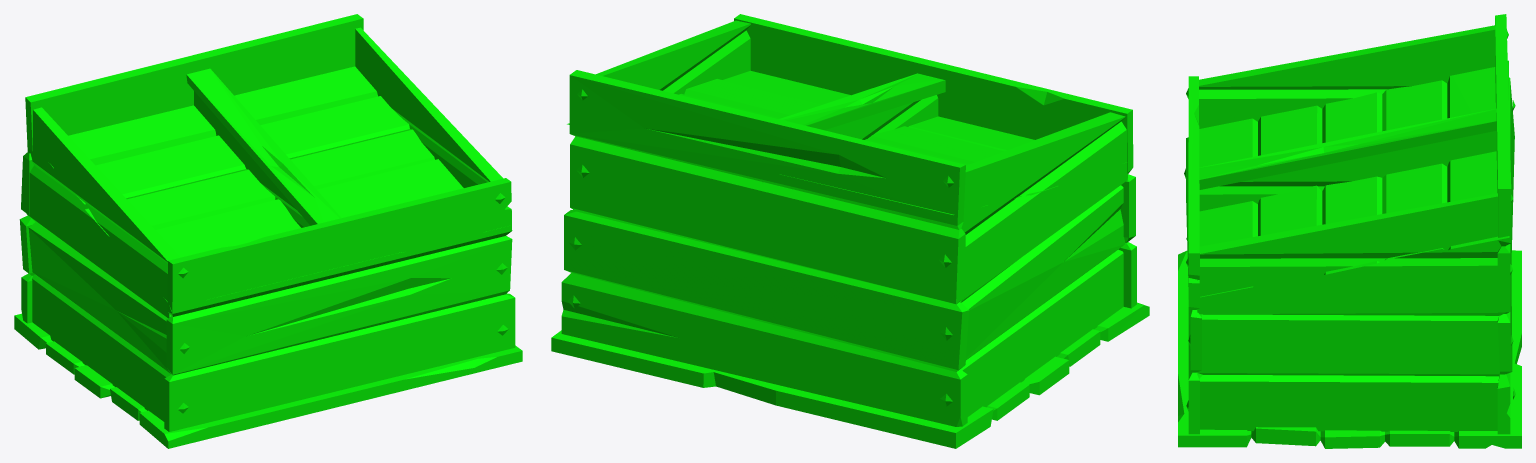
The model's file is SM_Crate_Display_Fantasy_A.fbx.
The picture shows the model from 3 angles, left to right: view 1: azimuth 30°, elevation 25°; view 2: azimuth 150°, elevation 25°; view 3: azimuth 270°, elevation 25°; orthographic projection. The views are drawn at different scales.
Visible parts, largest first — view 1: crate-display-fantasy-a; view 2: crate-display-fantasy-a; view 3: crate-display-fantasy-a.
Boxes of the visible parts, <box> form: crate-display-fantasy-a: <box>14,14,522,448</box>; crate-display-fantasy-a: <box>551,14,1149,448</box>; crate-display-fantasy-a: <box>1178,14,1521,448</box>.
Bounding box in the file's own units: 1.04 × 0.6639 × 0.8064.
